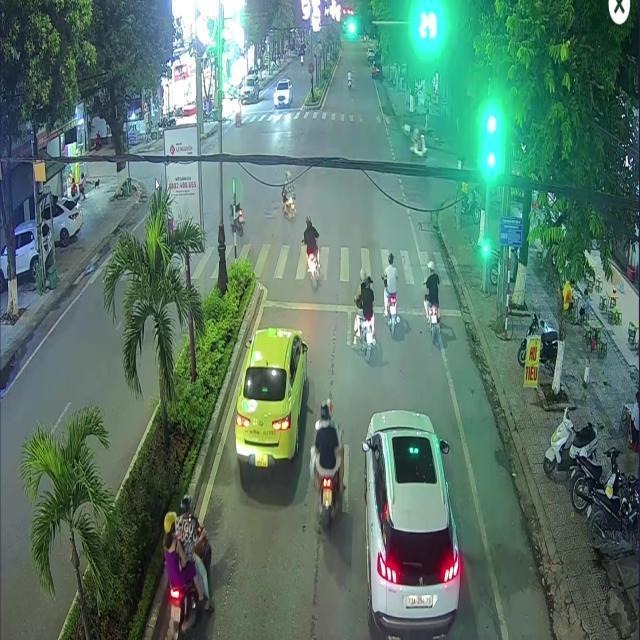car: (361, 409, 462, 639), (235, 326, 307, 466)
green_light: (346, 15, 373, 36), (486, 135, 495, 168), (483, 236, 487, 254)
motobike: (168, 513, 213, 638), (318, 471, 340, 528), (355, 313, 375, 361), (383, 283, 398, 335), (423, 300, 440, 341), (306, 250, 319, 288), (280, 192, 295, 221), (234, 205, 244, 235)
stop_line: (263, 299, 460, 315)
